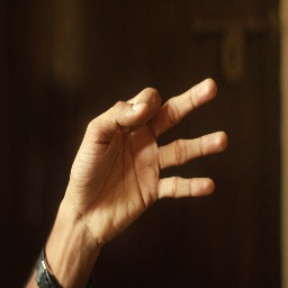K: (67, 75, 228, 235)
